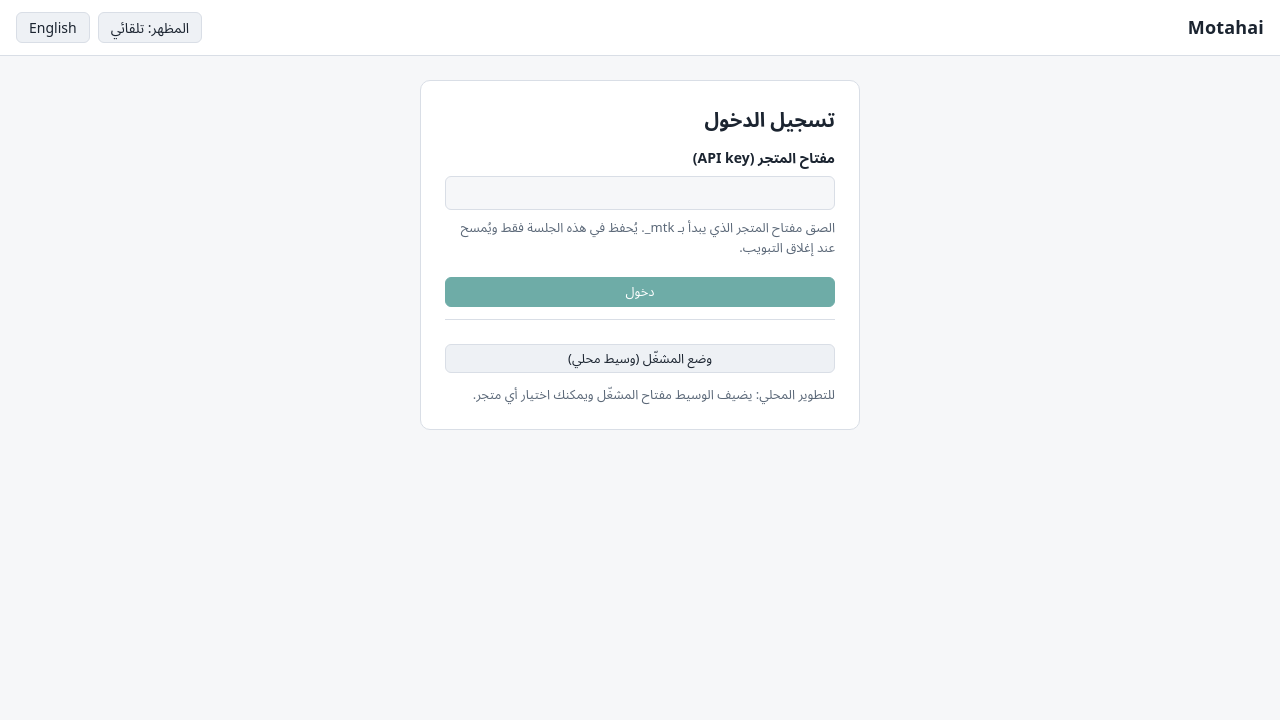
Test: App shell › renders Arabic by default with an RTL document
The width and height of the screenshot is (1280, 720).
Click the button "وضع المشغّل (وسيط محلي)". click: {"x": 640, "y": 358}
box: [445,344,835,373]
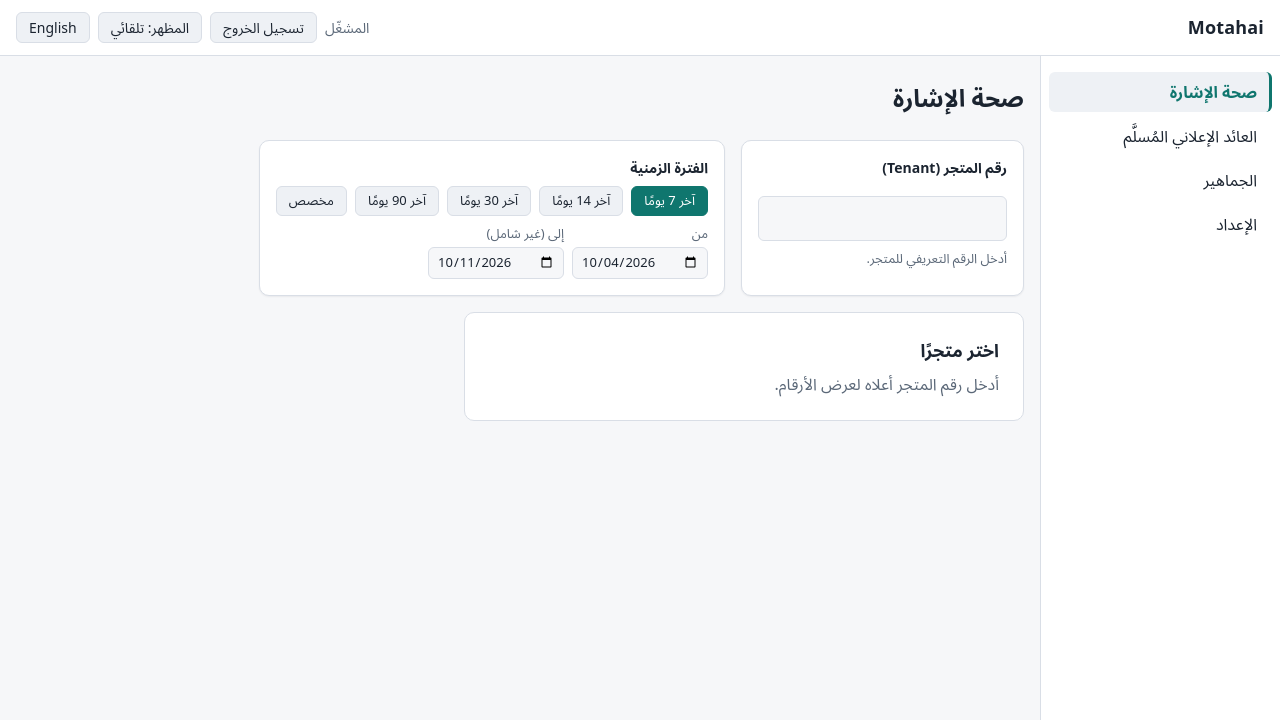
Expected: the button "English" is shown, [16,12,90,43]
Expected: the heading "صحة الإشارة" is shown, [893,81,1024,114]
